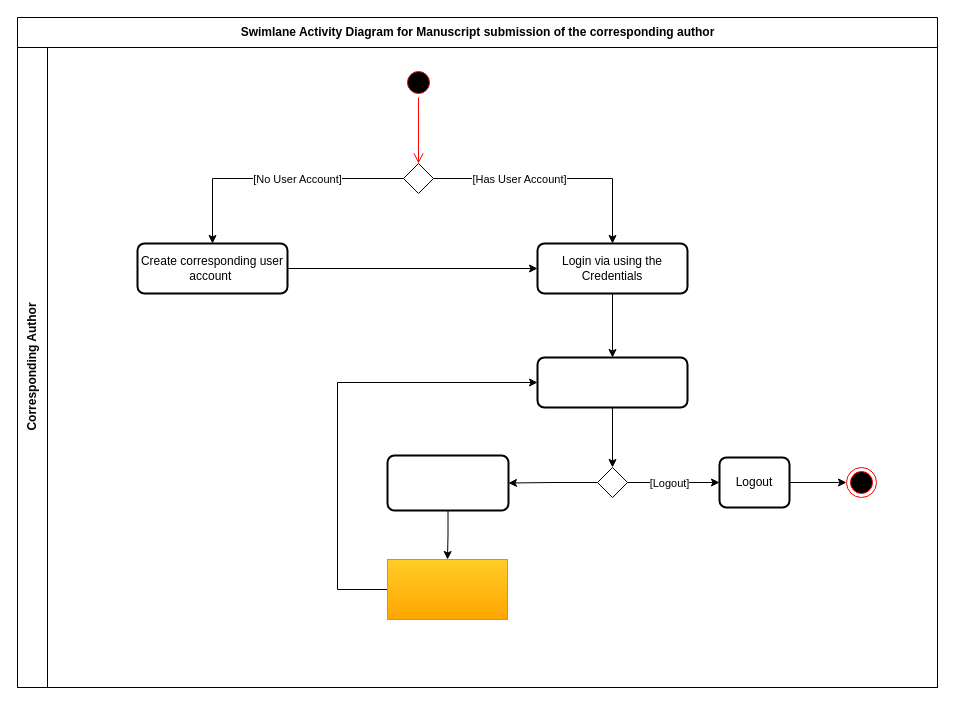
Some shapes in this 955 by 705 pixel diagram are drawn without their labels. The shapes that lost their labels are listed below. From the top down, each one's centre as x and y in pixels, then its label:
At (612,382): "View Dashboard".
At (447,482): "Submit the Revised/ Re-revised Manuscript".
At (447,589): "Revised or Re-revised manuscript Submission Complete Email".
